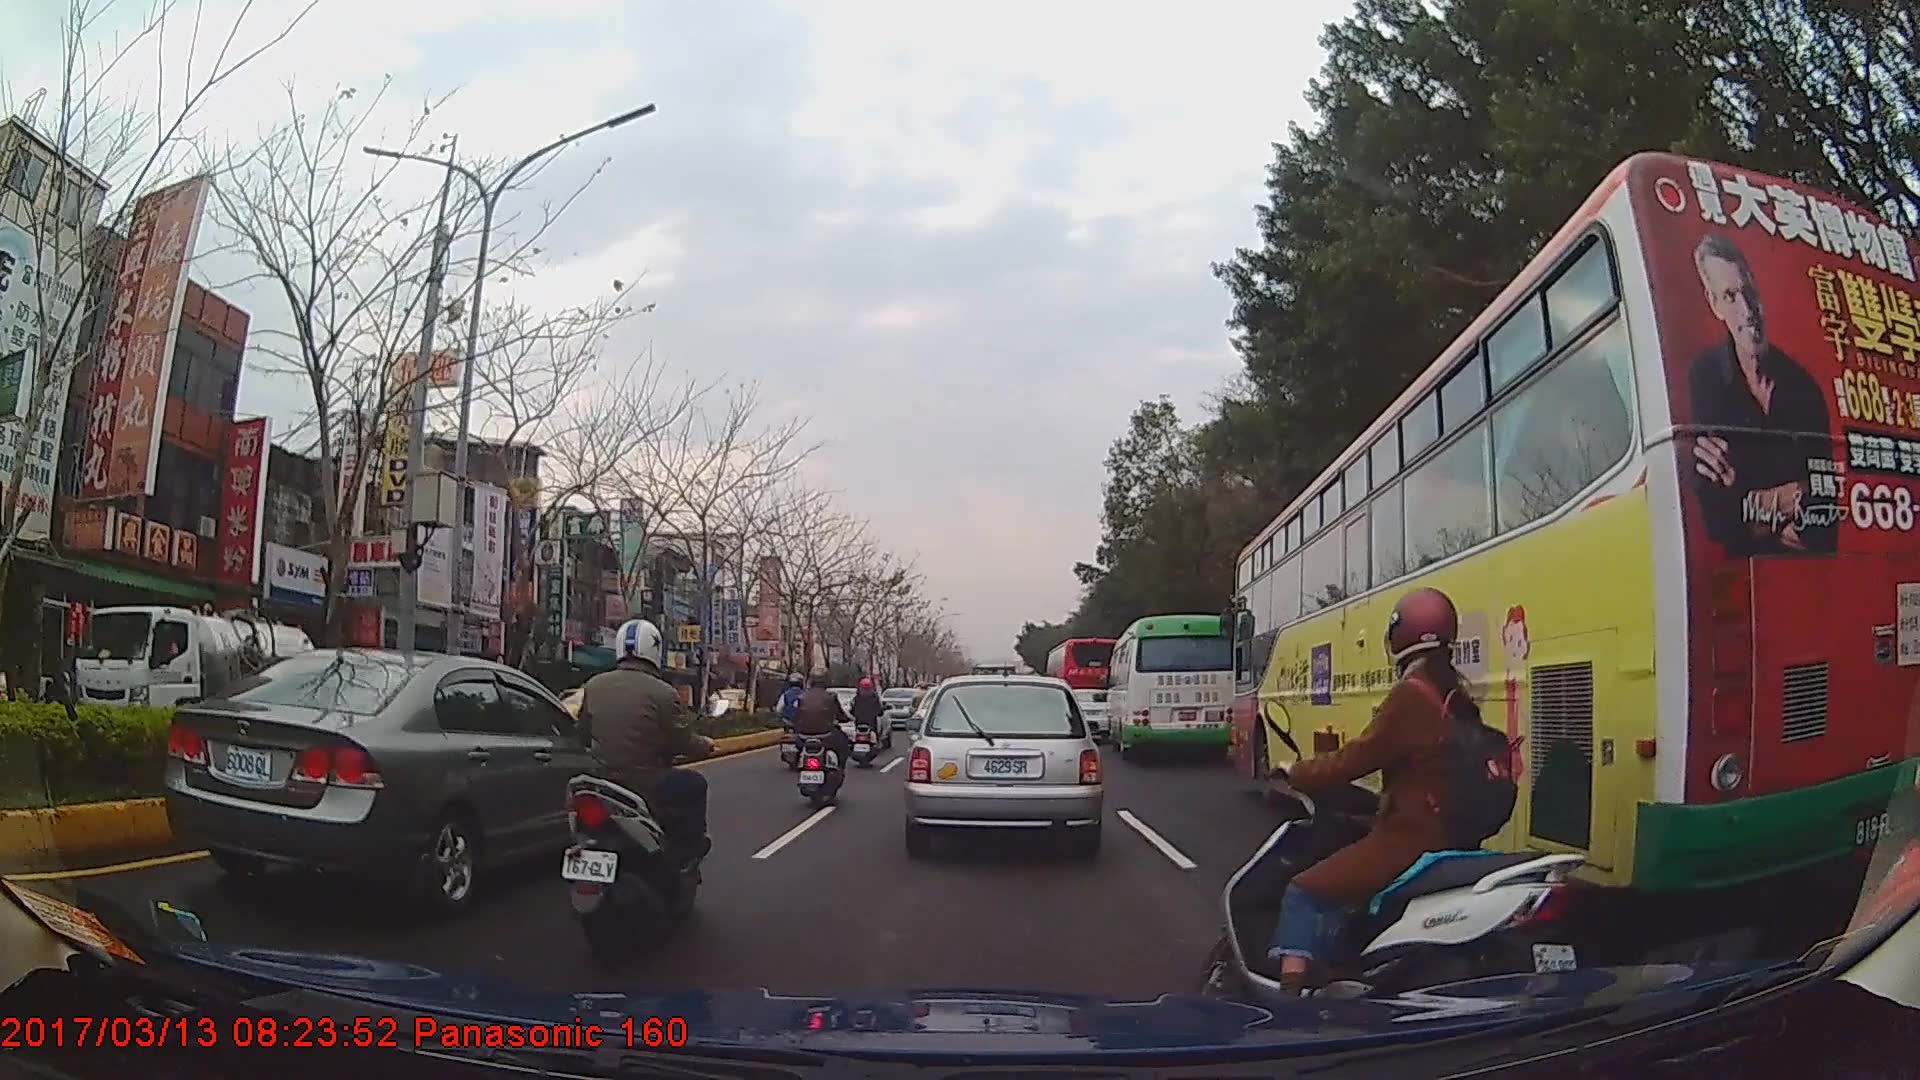rider: (1217, 590, 1586, 1038), (568, 620, 726, 950), (795, 666, 844, 808), (773, 670, 817, 753), (846, 676, 884, 771)
vehicle: (1230, 149, 1916, 909), (161, 648, 631, 913), (74, 604, 319, 764), (905, 671, 1101, 853), (1104, 614, 1237, 763), (1042, 635, 1124, 733), (694, 684, 754, 727)
